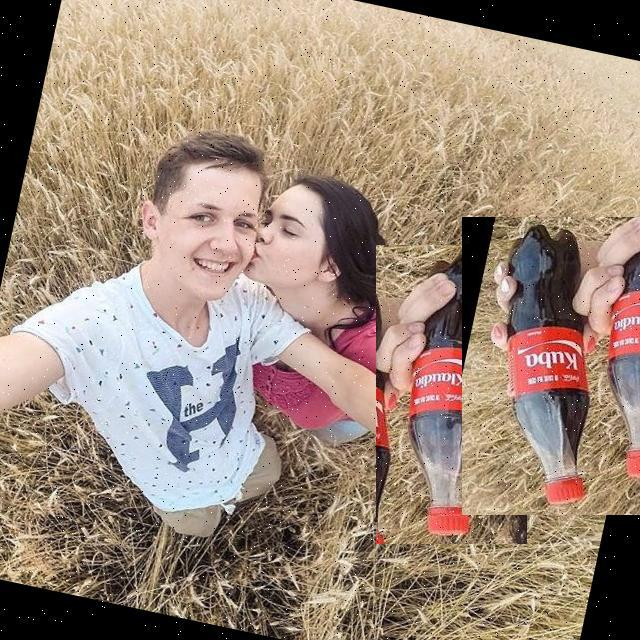coca-cola: (462, 217, 640, 515), (376, 245, 527, 544)
